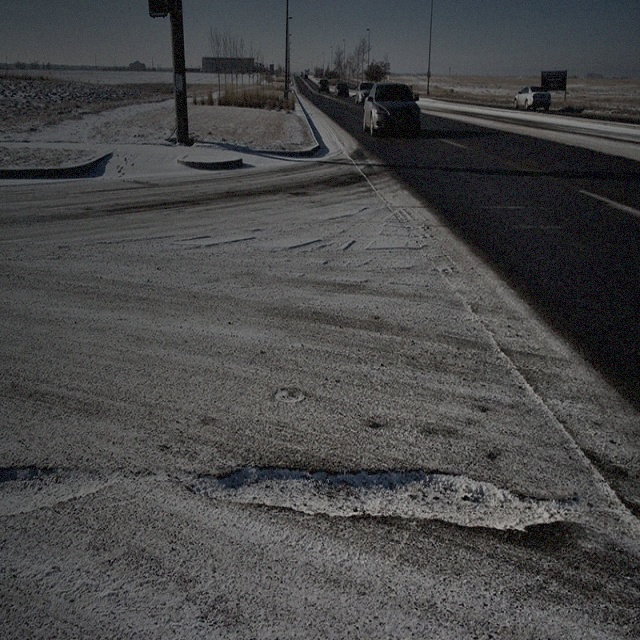pothole: (178, 451, 588, 562), (2, 441, 112, 515), (268, 384, 306, 405)
